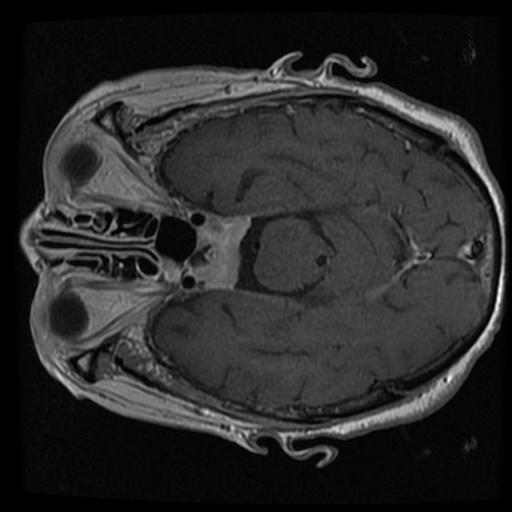pituitary tumour: (189, 216, 249, 289)
